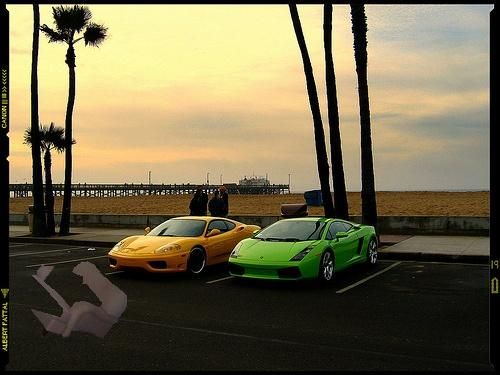tampered: (32, 262, 127, 338)
